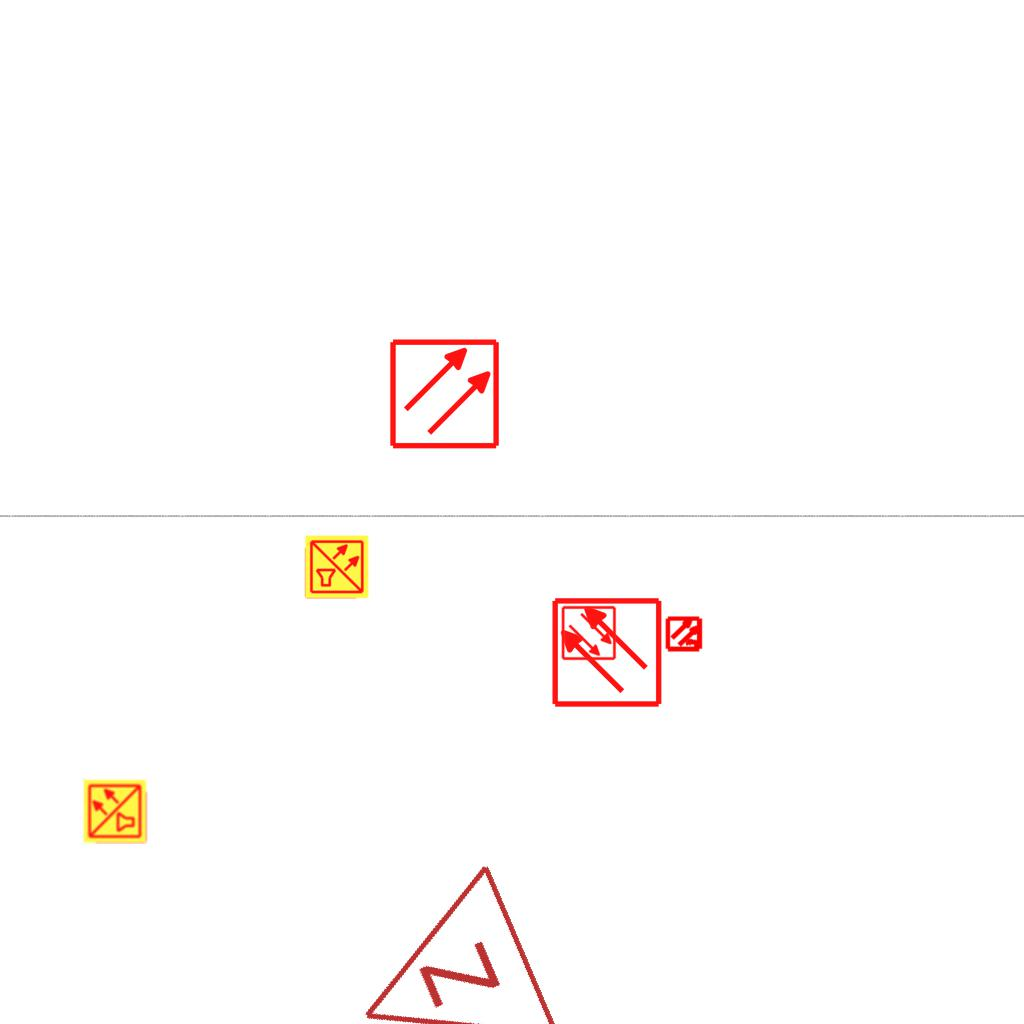OKW_Multisensormelder_(Kombination_optischer_Rauch-Kahlenmonoxid_Waerme-Melder): (304, 534, 370, 600), (82, 778, 148, 844)
OT_Multisensormelder_(Kombination_RMO_WMD): (657, 606, 713, 662)
RMO_Rauchmelder_optischer: (550, 596, 663, 709), (388, 337, 501, 450), (561, 605, 617, 661)
Zimmersignalleuchte: (315, 855, 577, 1024)
